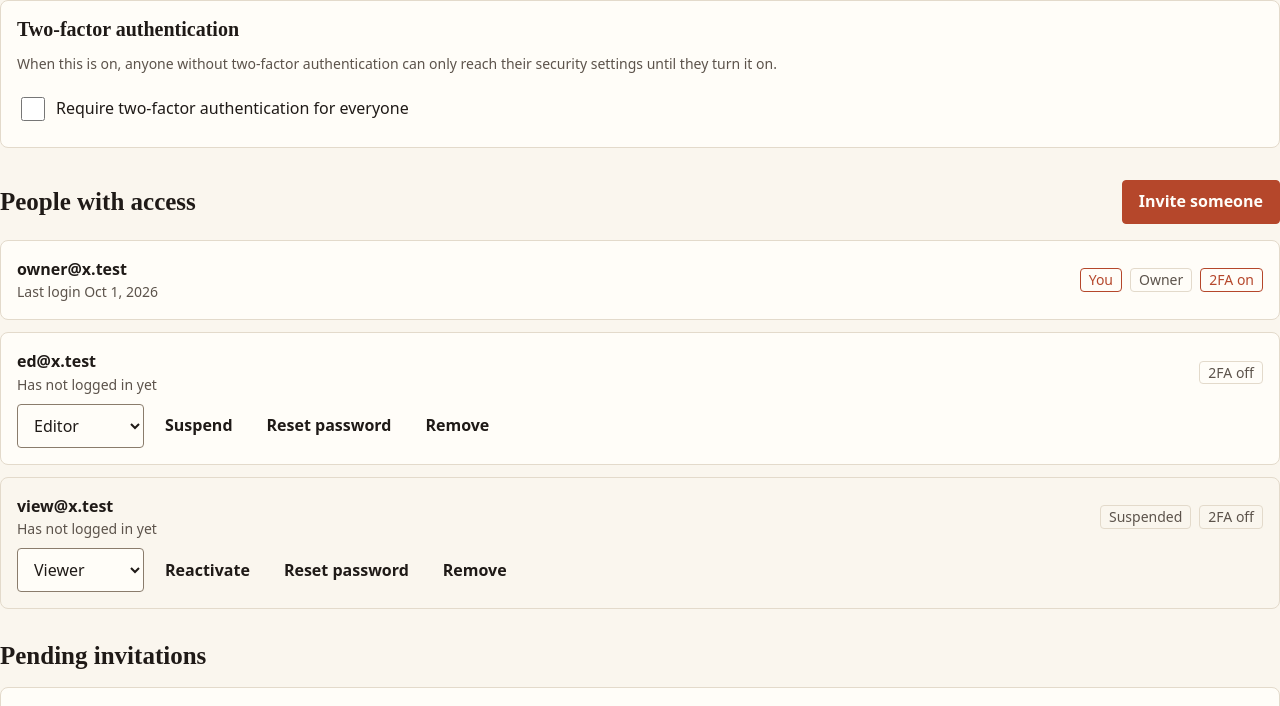
Scenario: MembersManager › 2FA requirement › turns the requirement on and reports a refusal
Click the checkbox labelled "Require two-factor authentication for everyone": coordinates (33, 109) [21,97,45,121]
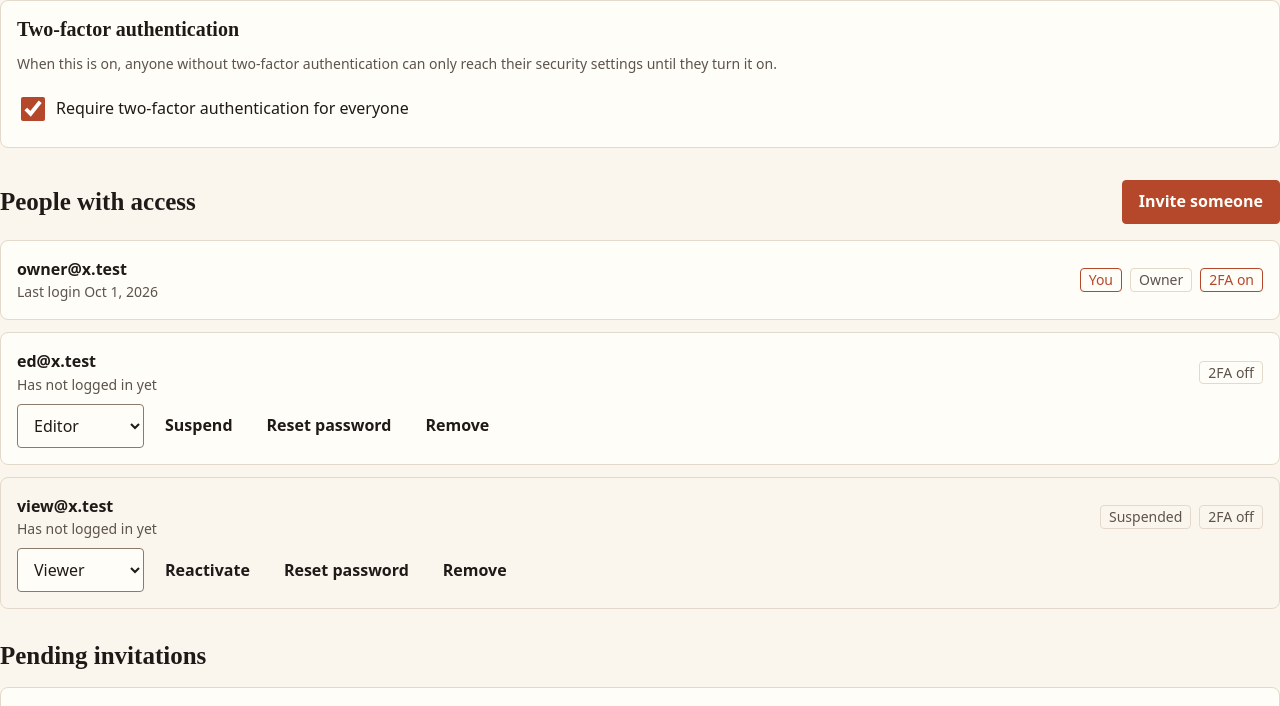
Check: the checkbox labelled "Require two-factor authentication for everyone" is checked
Click the checkbox labelled "Require two-factor authentication for everyone": coordinates (33, 109) [21,97,45,121]
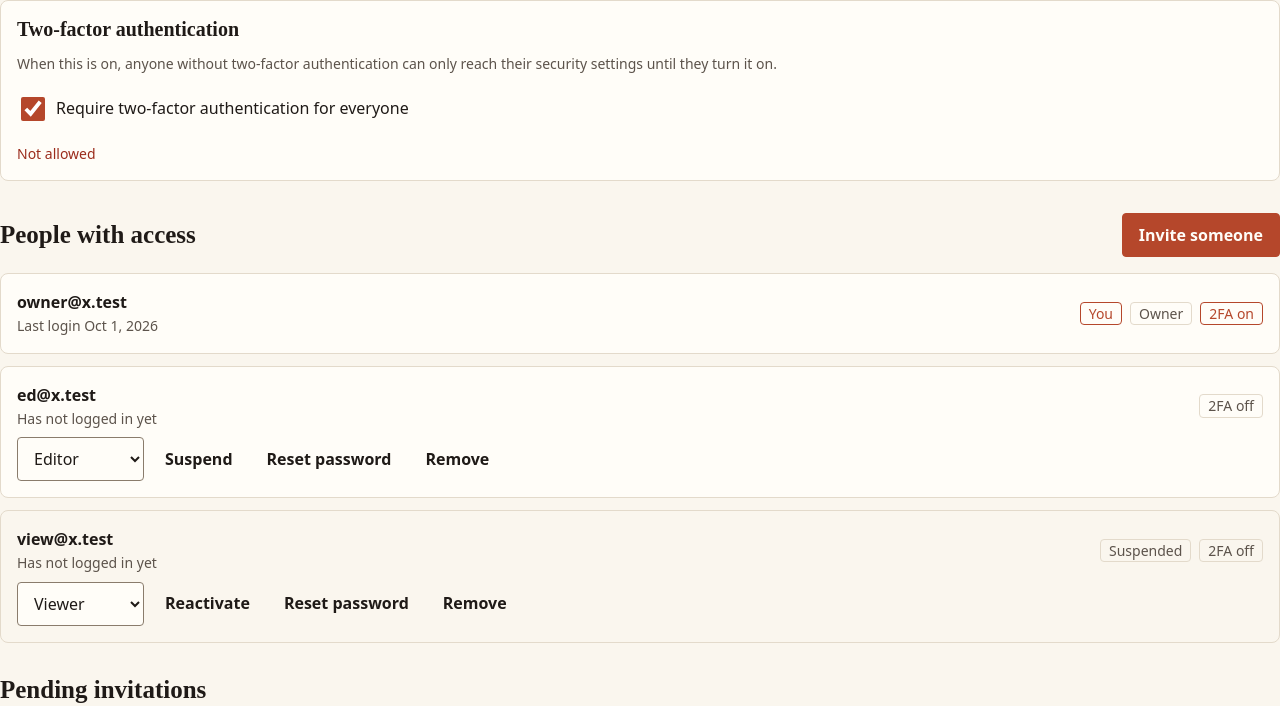
Check: the checkbox labelled "Require two-factor authentication for everyone" is checked, box [21,97,45,121]
Check: the text "Not allowed" is shown, box [17,143,96,164]
